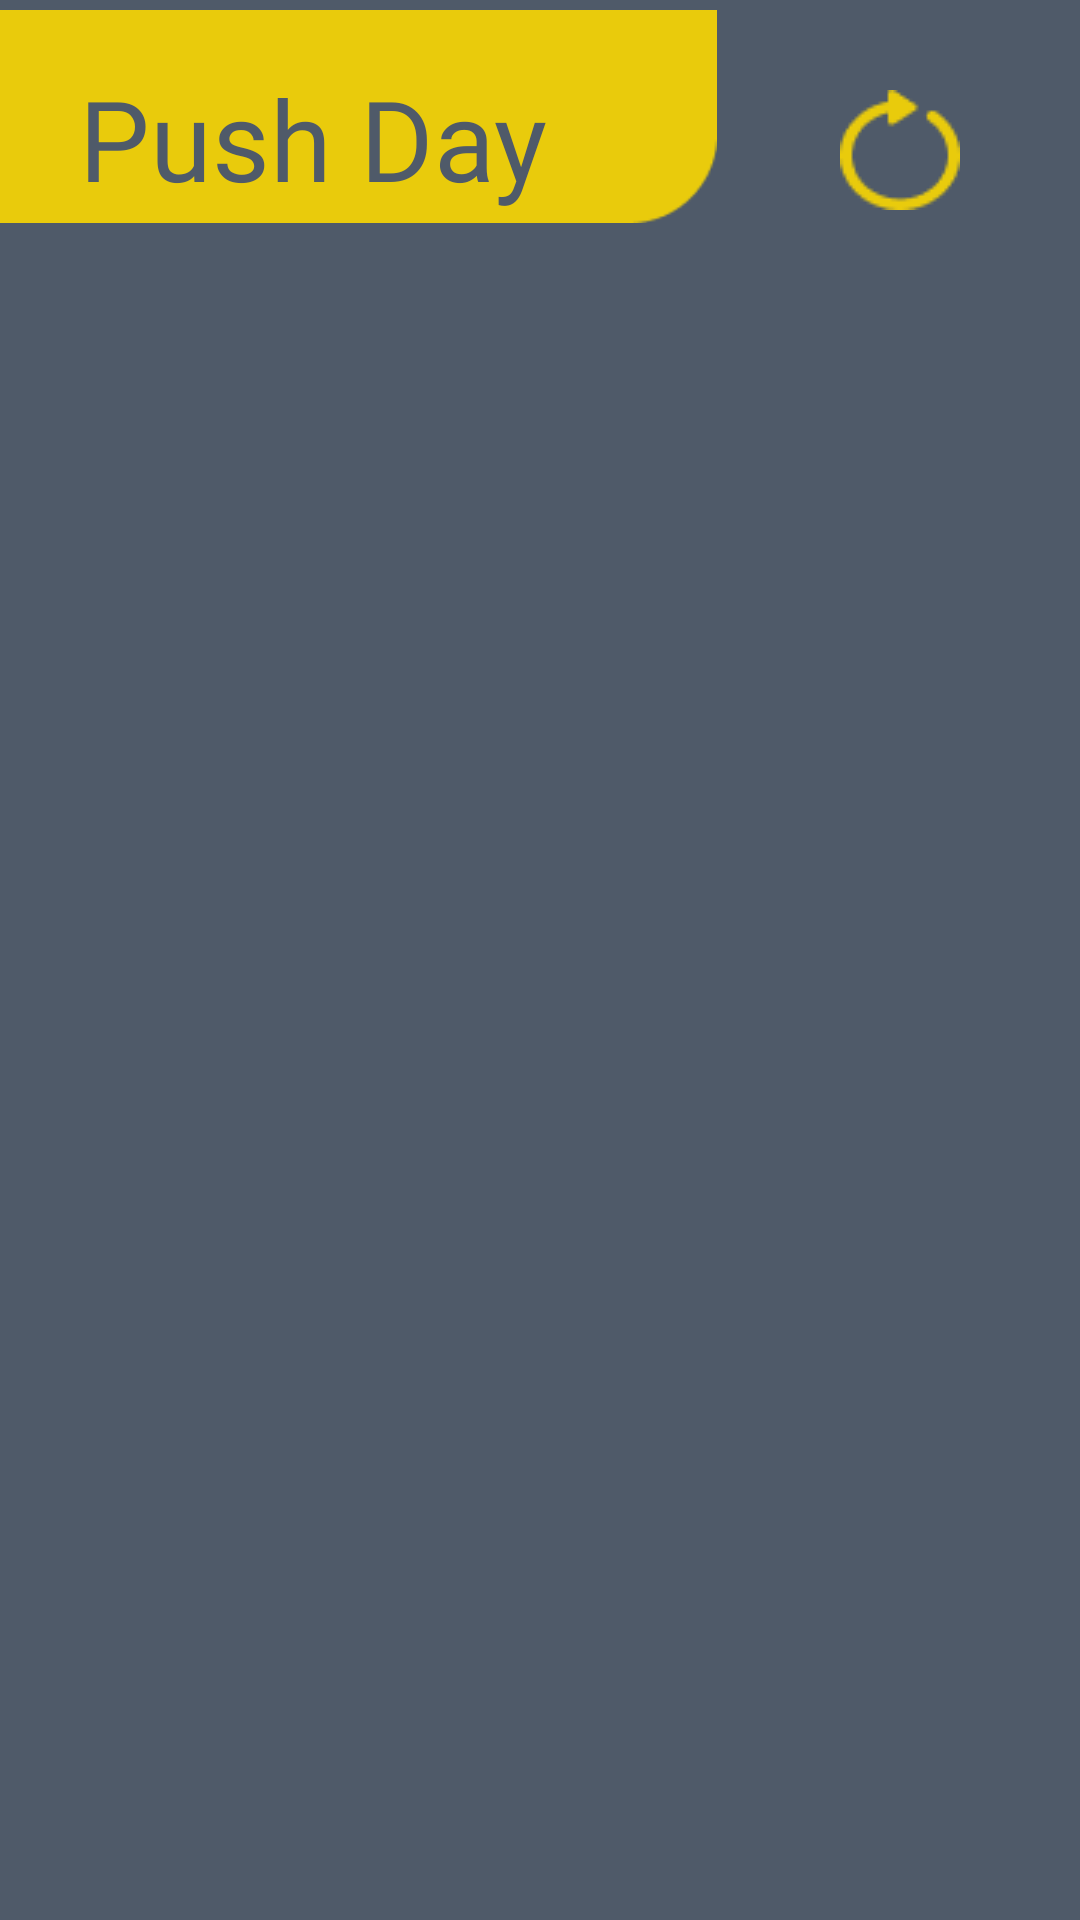

Where icons sit on this 1080 x 1920 app screen, as rect(x1, y1, x2, y2):
refresh: rect(840, 90, 960, 210)
